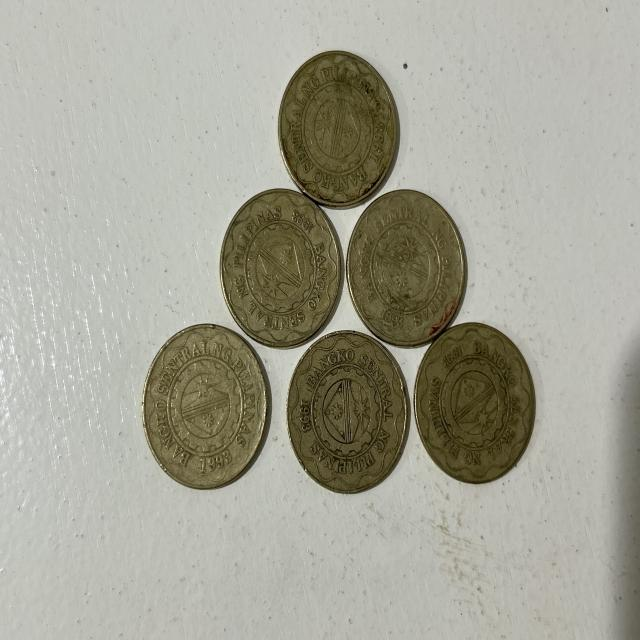5_Old_Back: (344, 182, 464, 349), (289, 332, 407, 498), (279, 48, 396, 208), (417, 325, 534, 482), (146, 327, 273, 470), (222, 191, 339, 343)
